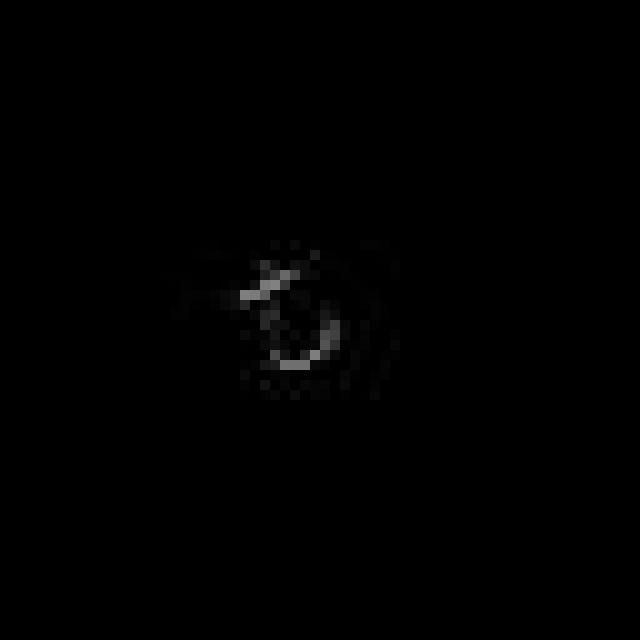7 -seven-: (230, 249, 348, 378)
